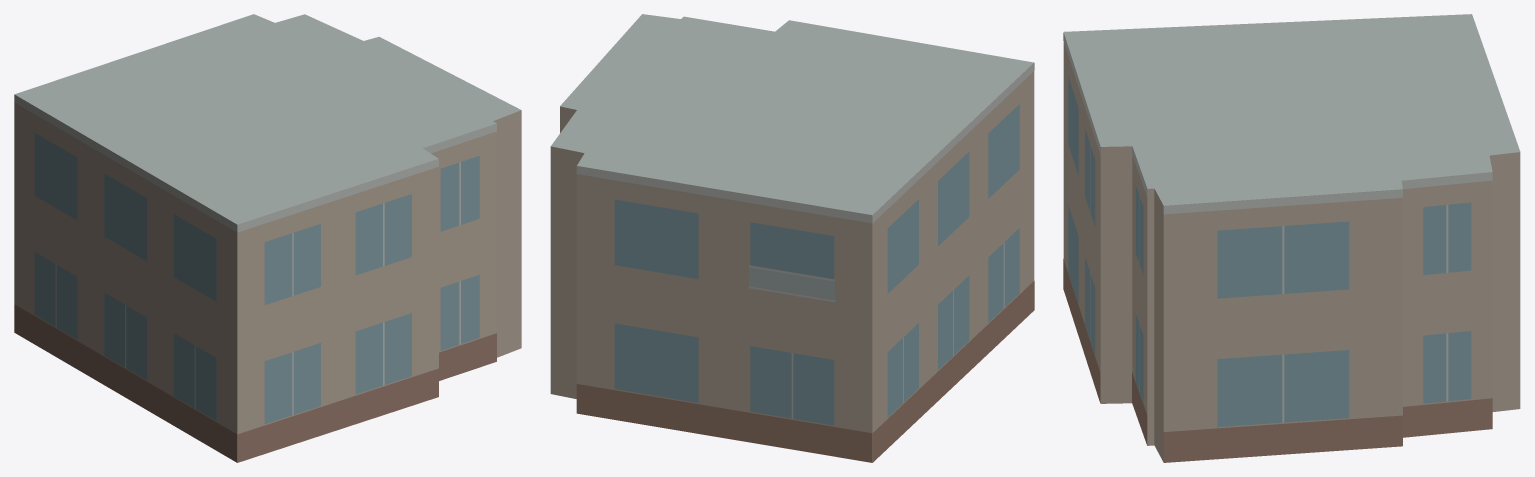
The model's file is survey-upis-32498113.glb.
3 renders of one model, left to right at view 1: azimuth 30°, elevation 25°; view 2: azimuth 150°, elevation 25°; view 3: azimuth 270°, elevation 25°, orthographic. The views are drawn at different scales.
Visible parts, largest first — view 1: survey-upis-32498113.tmp; view 2: survey-upis-32498113.tmp; view 3: survey-upis-32498113.tmp.
Boxes of the visible parts, box(x1,y1,x2,y2) form: survey-upis-32498113.tmp: box(14, 14, 521, 462); survey-upis-32498113.tmp: box(550, 14, 1034, 462); survey-upis-32498113.tmp: box(1063, 14, 1520, 462).
Size of the model in its own units: 11.78 by 7.35 by 11.86.
